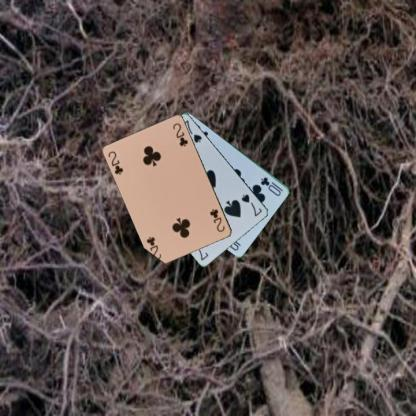10c: (258, 175, 284, 197)
2c: (207, 206, 226, 234), (106, 149, 125, 176)
7s: (239, 192, 264, 218)
